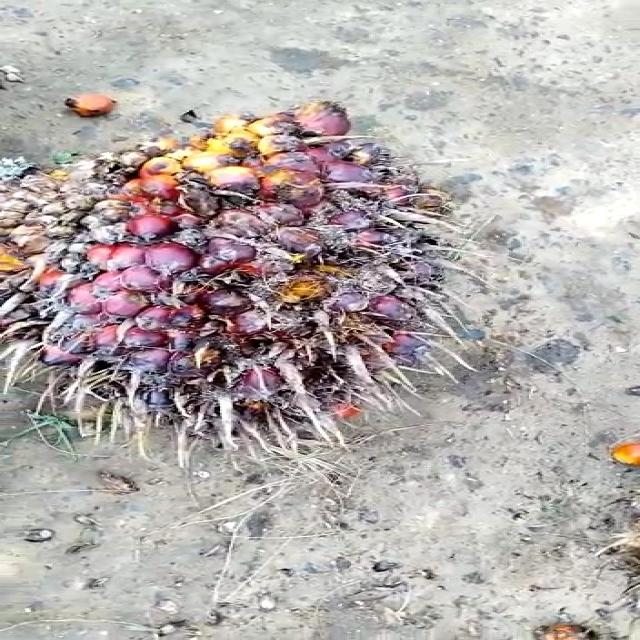palm oil: (0, 99, 466, 458)
